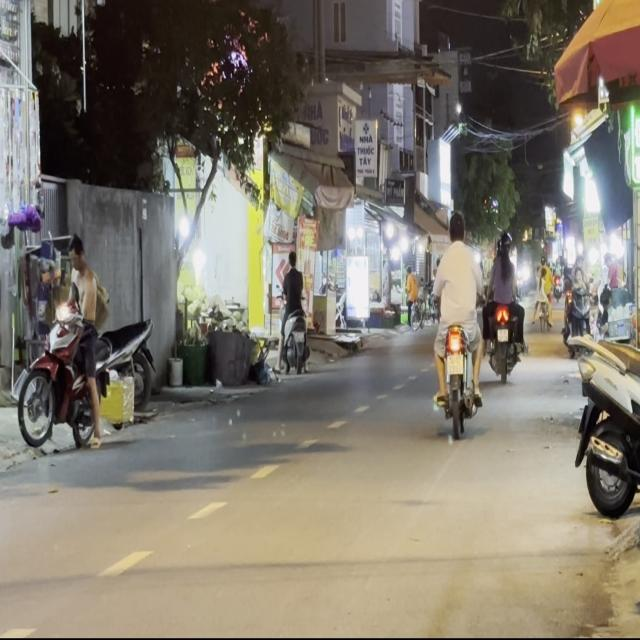licenseplate: (12, 229, 147, 456), (429, 208, 484, 436)
motorcyclist: (67, 234, 86, 273), (447, 210, 465, 242)
nohelmet: (447, 353, 463, 373)
